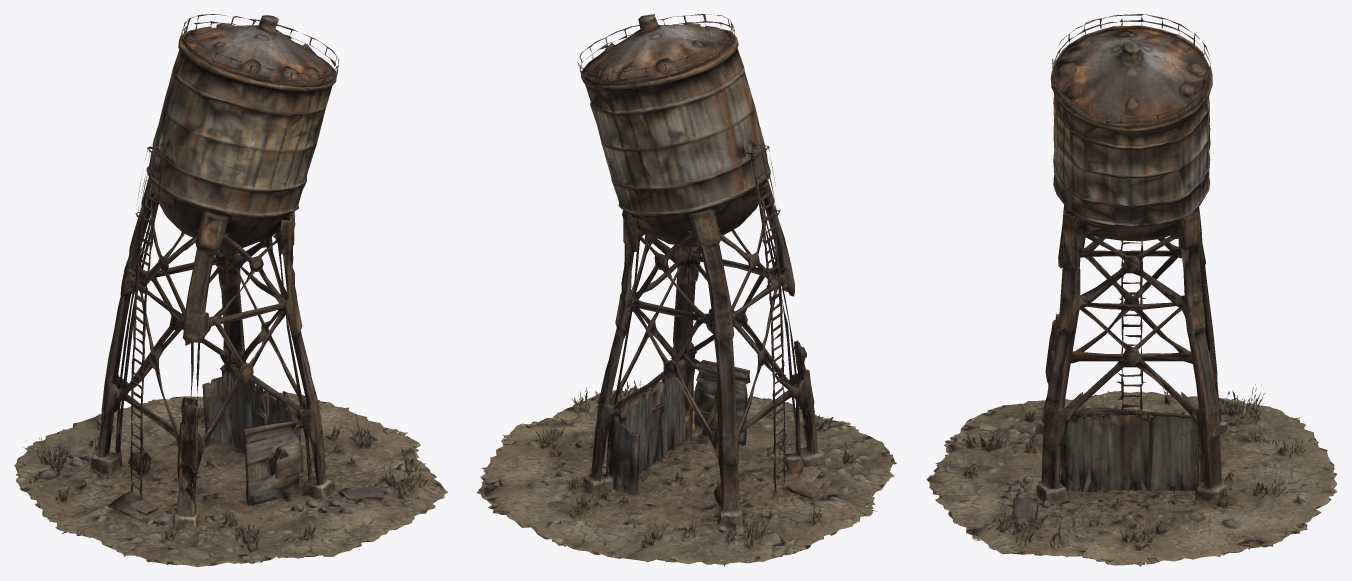
Rendered from wt_lean.glb.
The picture shows the model from 3 angles, left to right: view 1: azimuth 30°, elevation 25°; view 2: azimuth 150°, elevation 25°; view 3: azimuth 270°, elevation 25°; orthographic projection.
Parts seen in each view (by area): view 1: wt_lean; view 2: wt_lean; view 3: wt_lean.
Boxes of the visible parts, x1,y1,x2,y2 form: wt_lean: (14,14,447,566); wt_lean: (477,14,896,566); wt_lean: (926,14,1337,566).
Size of the model in its own units: 158 by 190 by 155.
1 material, 1 textured.
